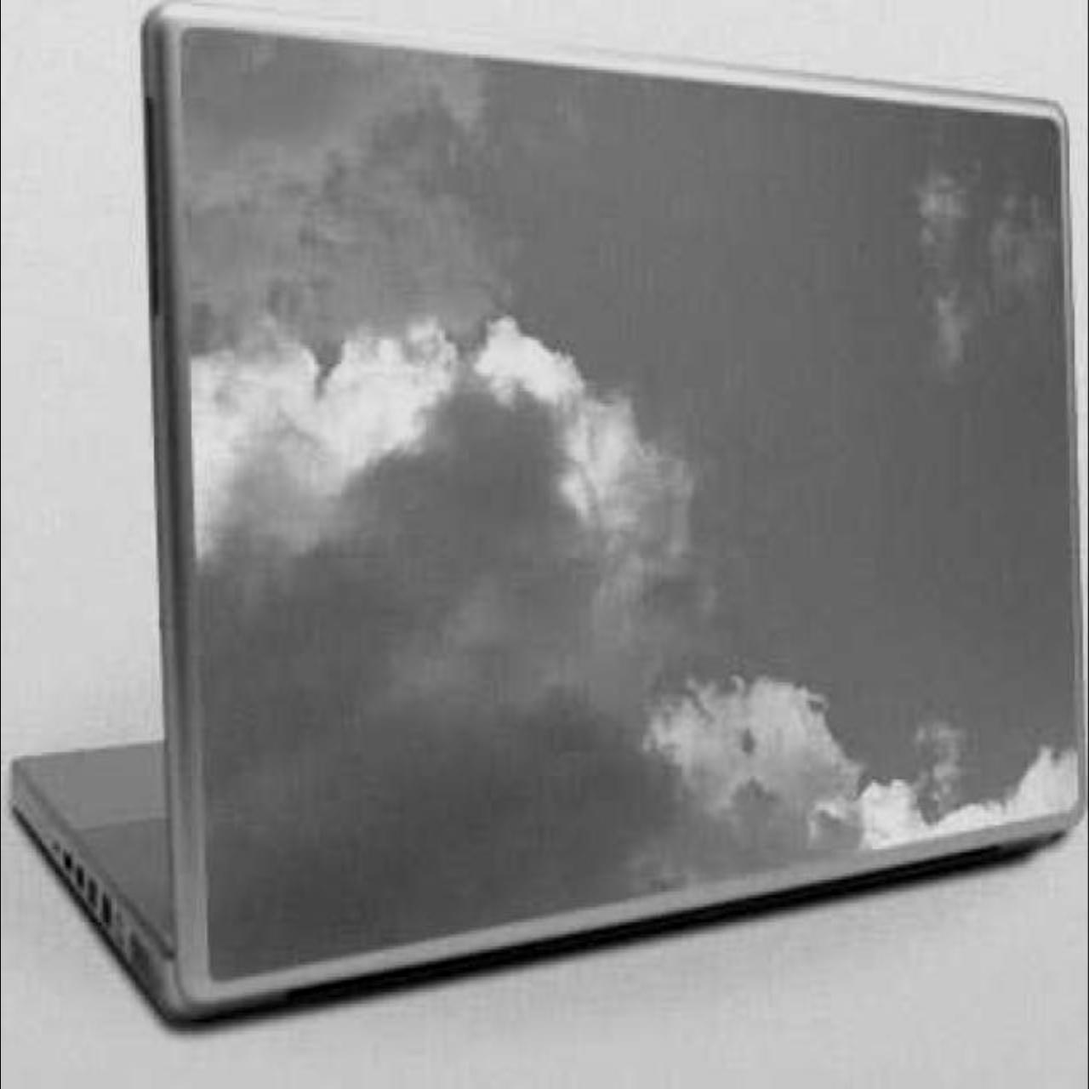laptop: (27, 2, 1089, 1023)
